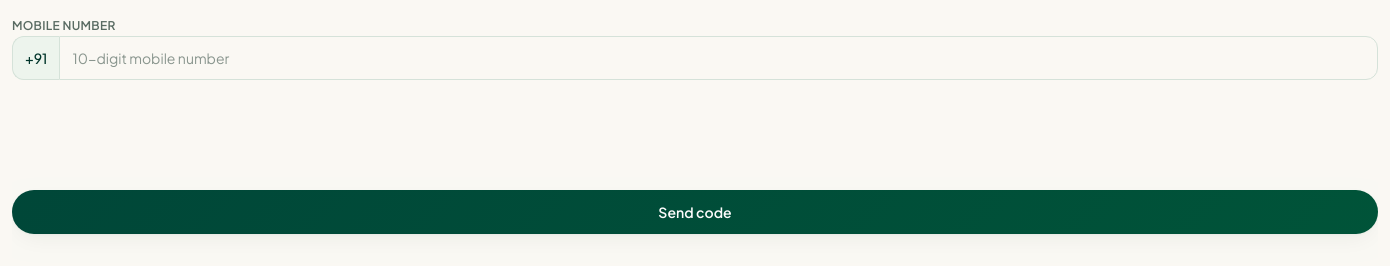
Test case: MobileOtpForm › code step › goes back to the number step from Change number and re-renders the captcha
The image size is (1390, 266).
Expected: the button "Send code" is enabled, [12,190,1378,234]
Step 1. Type "9876543210" into the field labelled "Mobile number" → (719,58), box [60,36,1378,80]
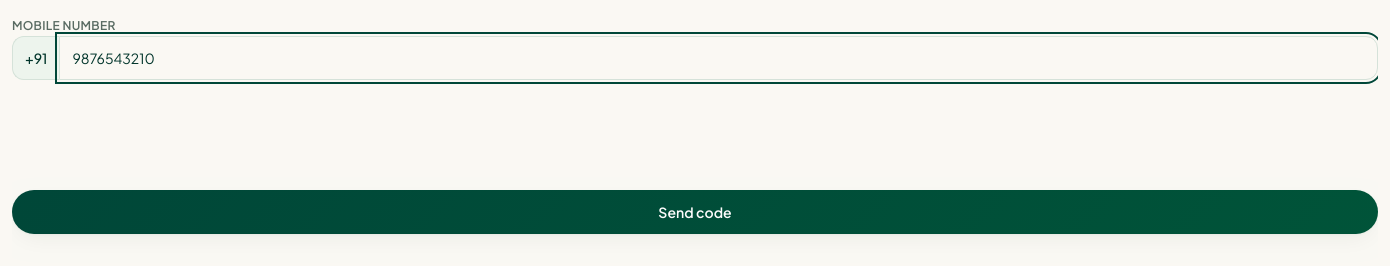
Step 2. Click the button "Send code" → (695,212), box [12,190,1378,234]
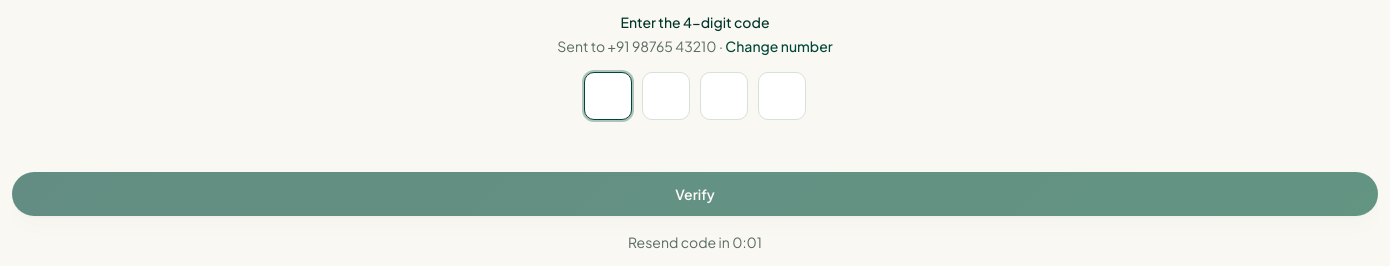
Expected: the text "Enter the 4-digit code" is shown, [620,13,770,31]
Step 3. Click the button "Change number" → (779,46), box [725,36,833,56]
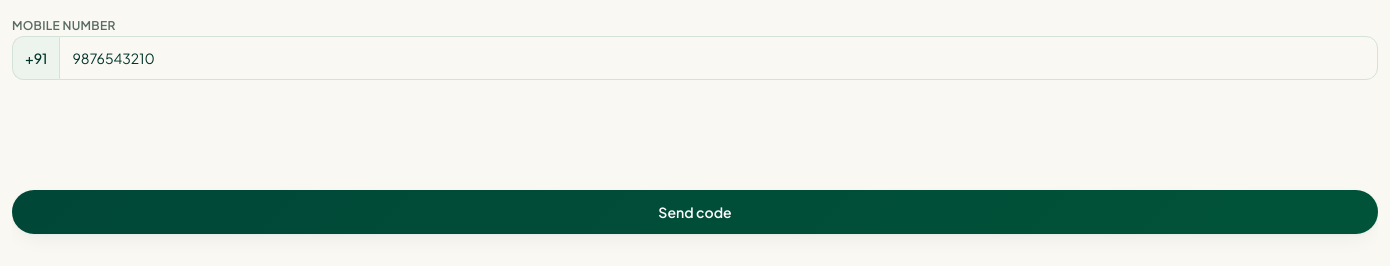
Expected: the field labelled "Mobile number" is shown, [60,36,1378,80]
